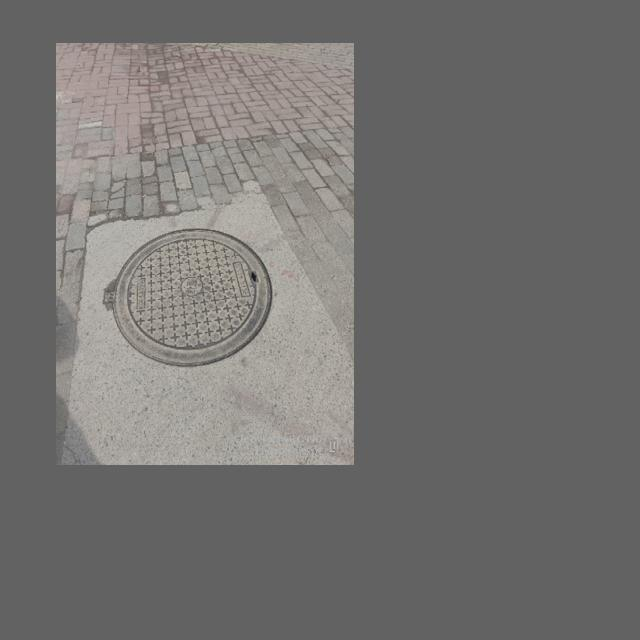good: (104, 228, 272, 366)
